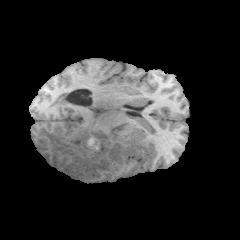glioma: (38, 122, 146, 178)
